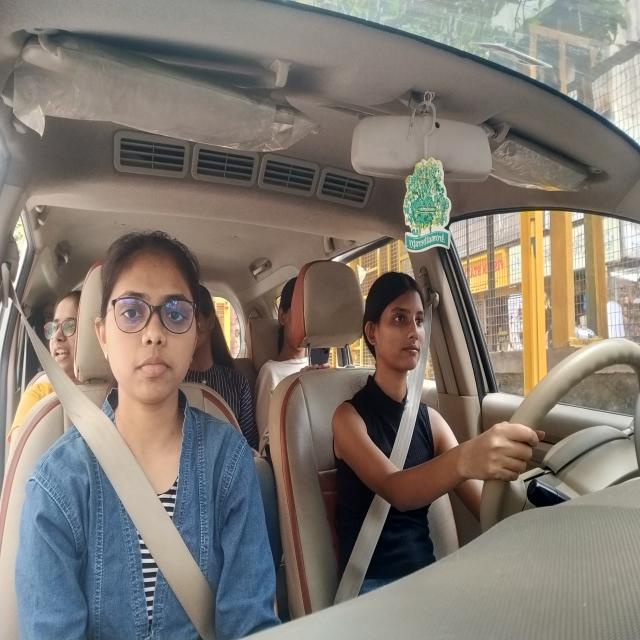person: (103, 235, 193, 401), (363, 275, 436, 382), (50, 301, 85, 386), (198, 294, 231, 371), (284, 284, 300, 354)
